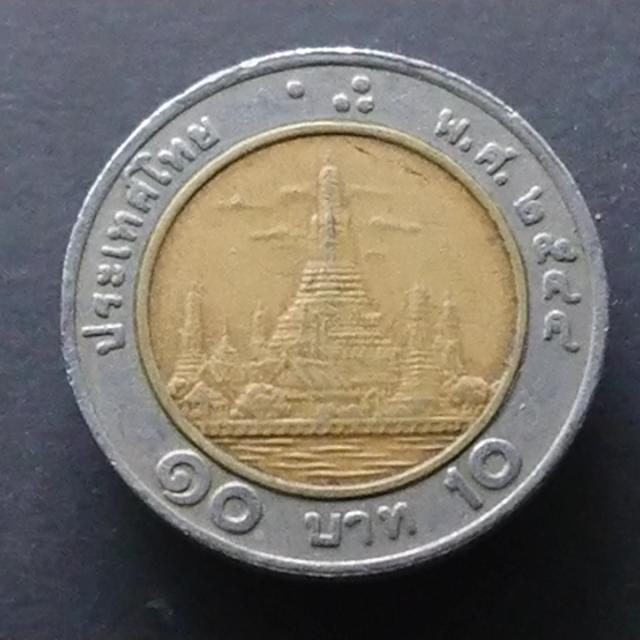10 Bath: (59, 50, 617, 580)
